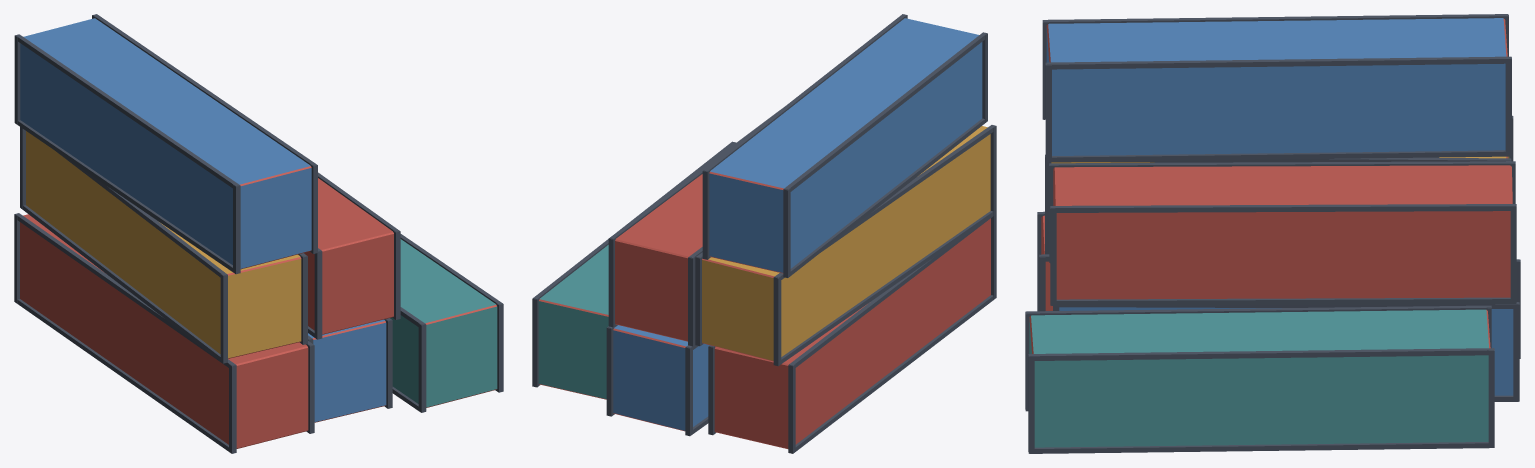
File: port_containers_hq.glb
3 renders of one model, left to right at view 1: azimuth 30°, elevation 25°; view 2: azimuth 150°, elevation 25°; view 3: azimuth 270°, elevation 25°, orthographic. The views are drawn at different scales.
Parts seen in each view (by area): view 1: PortContainersHQ; view 2: PortContainersHQ; view 3: PortContainersHQ.
Part boxes in pixels (left/top/right/bottom): PortContainersHQ: left=14, top=14, right=503, bottom=453; PortContainersHQ: left=532, top=14, right=996, bottom=453; PortContainersHQ: left=1025, top=14, right=1520, bottom=453.
Bounding box in the file's own units: 9.2 × 8.46 × 12.95.
